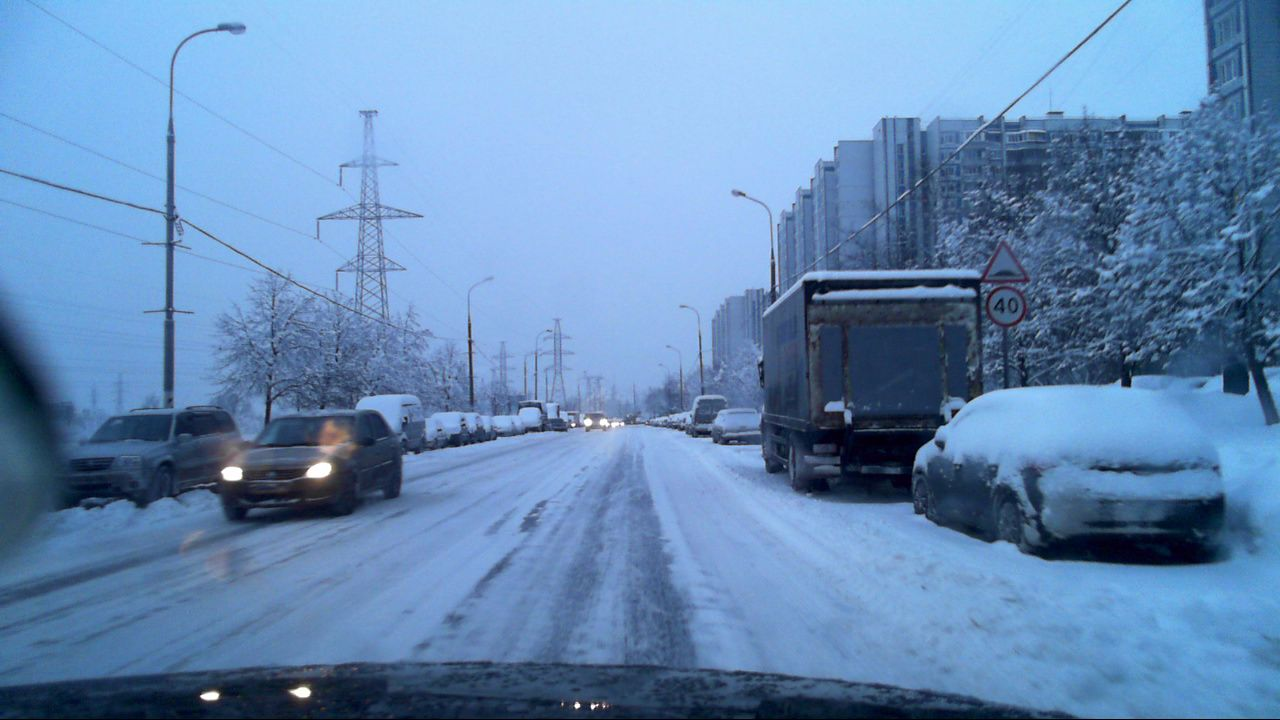speed_warning_40: (985, 287, 1028, 326)
